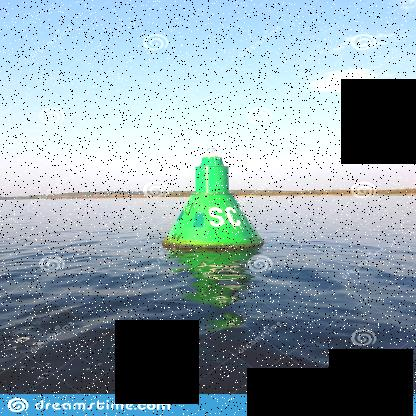Buoy: (157, 151, 271, 254)
